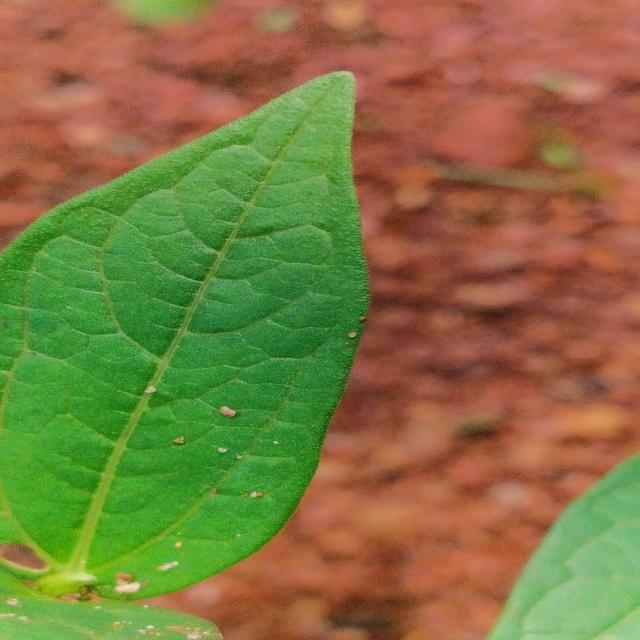Black gram_healthy: (4, 74, 370, 598)
